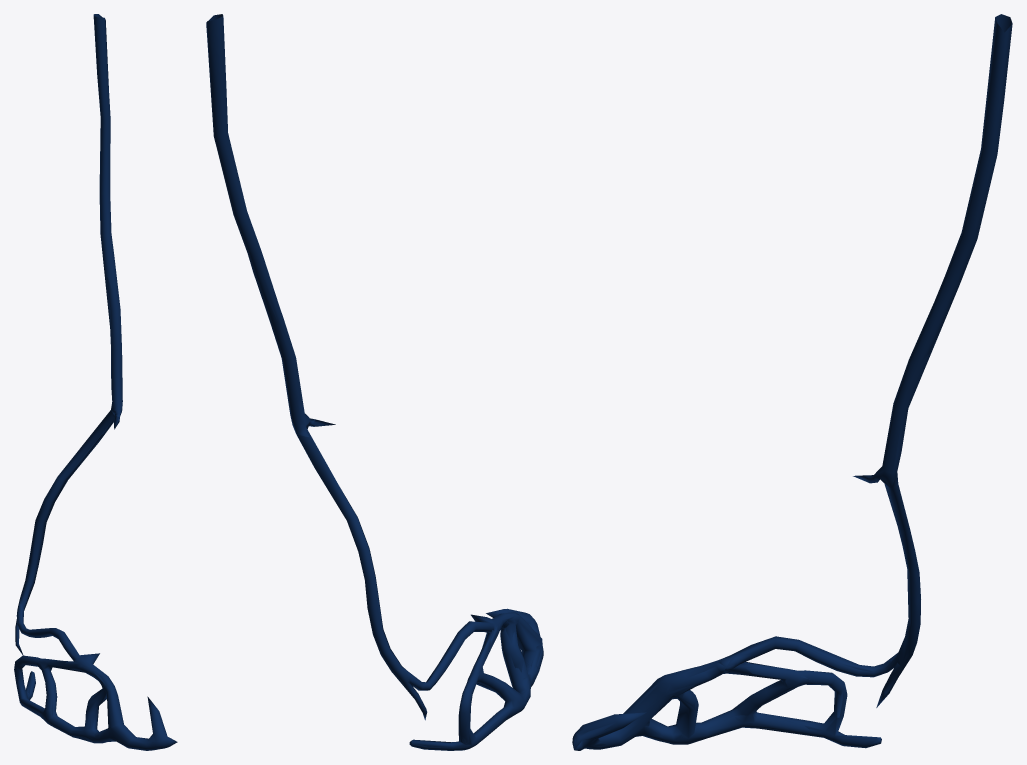
The model's file is RB vena digitales lateralis.fbx.
3 renders of one model, left to right at view 1: azimuth 30°, elevation 25°; view 2: azimuth 150°, elevation 25°; view 3: azimuth 270°, elevation 25°, orthographic. The views are drawn at different scales.
Visible parts, largest first — view 1: RB vena digitales lateralis, RB vena digitales lateralis low; view 2: RB vena digitales lateralis, RB vena digitales lateralis low; view 3: RB vena digitales lateralis, RB vena digitales lateralis low.
Part boxes in pixels (bbox=[...]): RB vena digitales lateralis: bbox=[14, 14, 177, 750]; RB vena digitales lateralis low: bbox=[15, 14, 174, 750]; RB vena digitales lateralis: bbox=[207, 14, 543, 750]; RB vena digitales lateralis low: bbox=[206, 15, 542, 747]; RB vena digitales lateralis: bbox=[572, 30, 1011, 750]; RB vena digitales lateralis low: bbox=[574, 14, 1012, 750].
Bounding box in the file's own units: 3.23 × 11.9 × 5.84.
